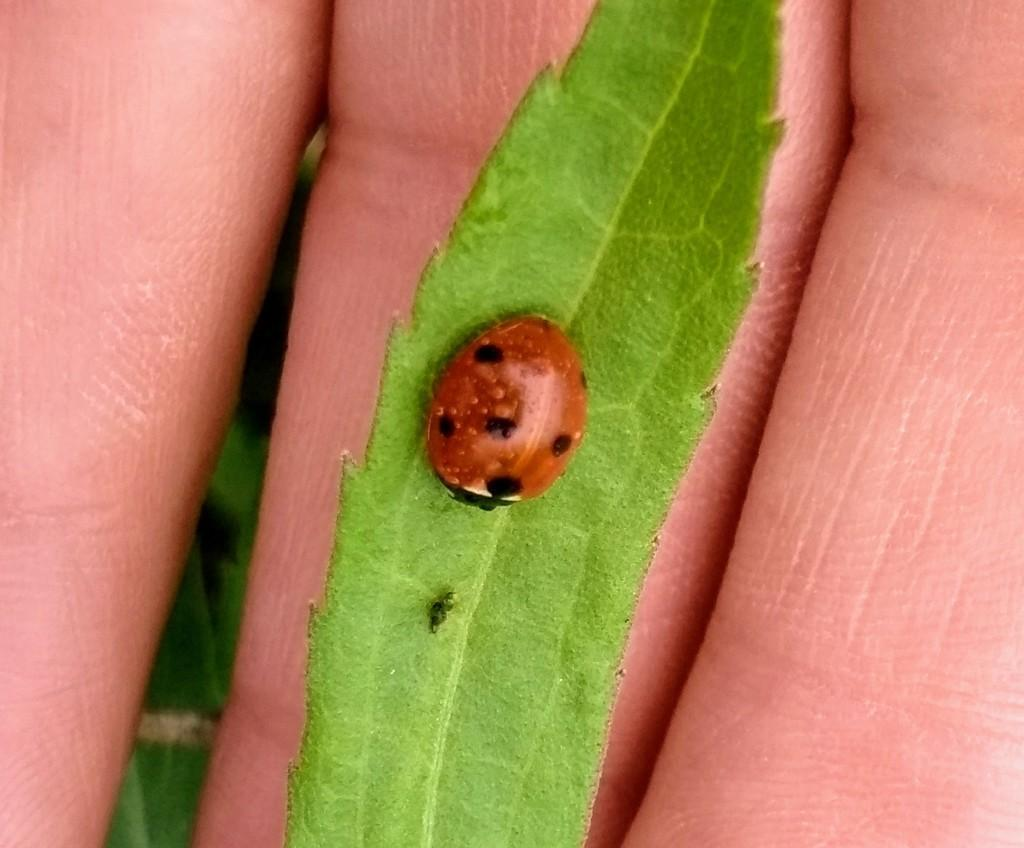ladybug: (421, 309, 591, 514)
